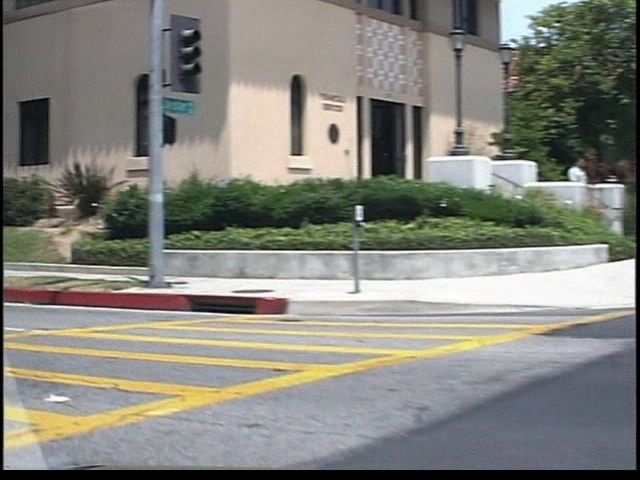person: (548, 148, 573, 226)
